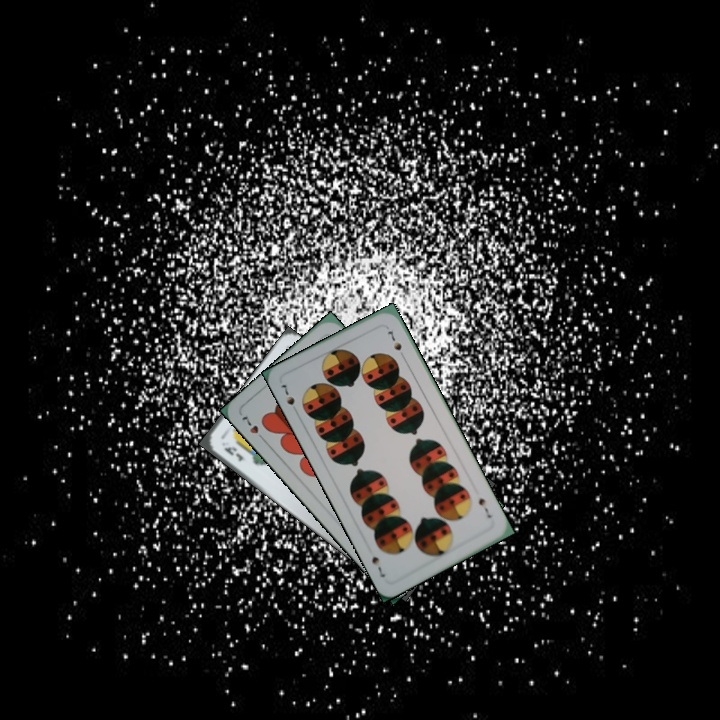EK: (219, 442, 246, 464)
H7: (237, 412, 268, 445)
S7: (276, 380, 297, 408), (474, 494, 494, 521)
